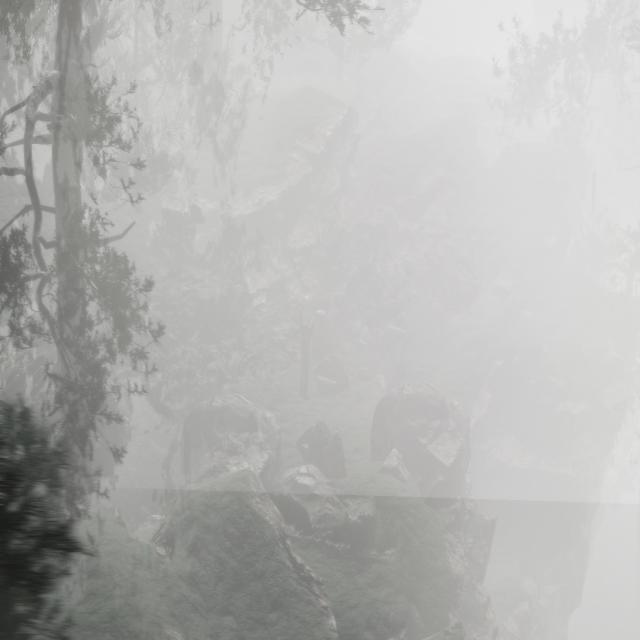Human: (298, 292, 320, 409)
